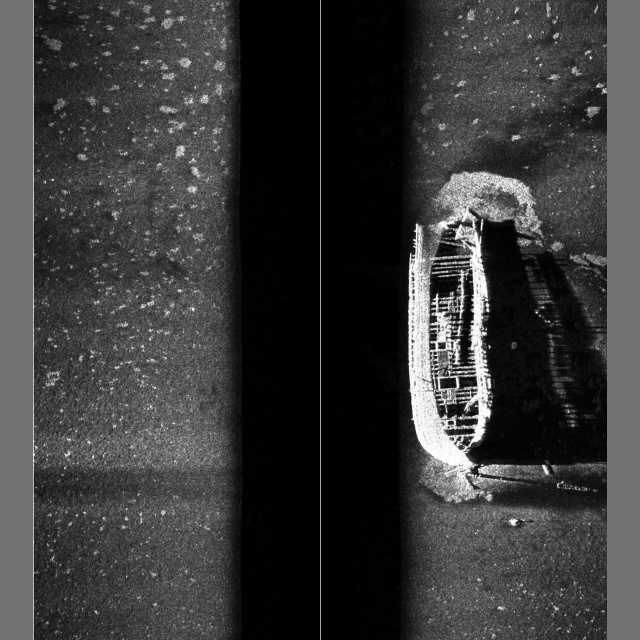Shipwreck: (408, 207, 598, 492)
